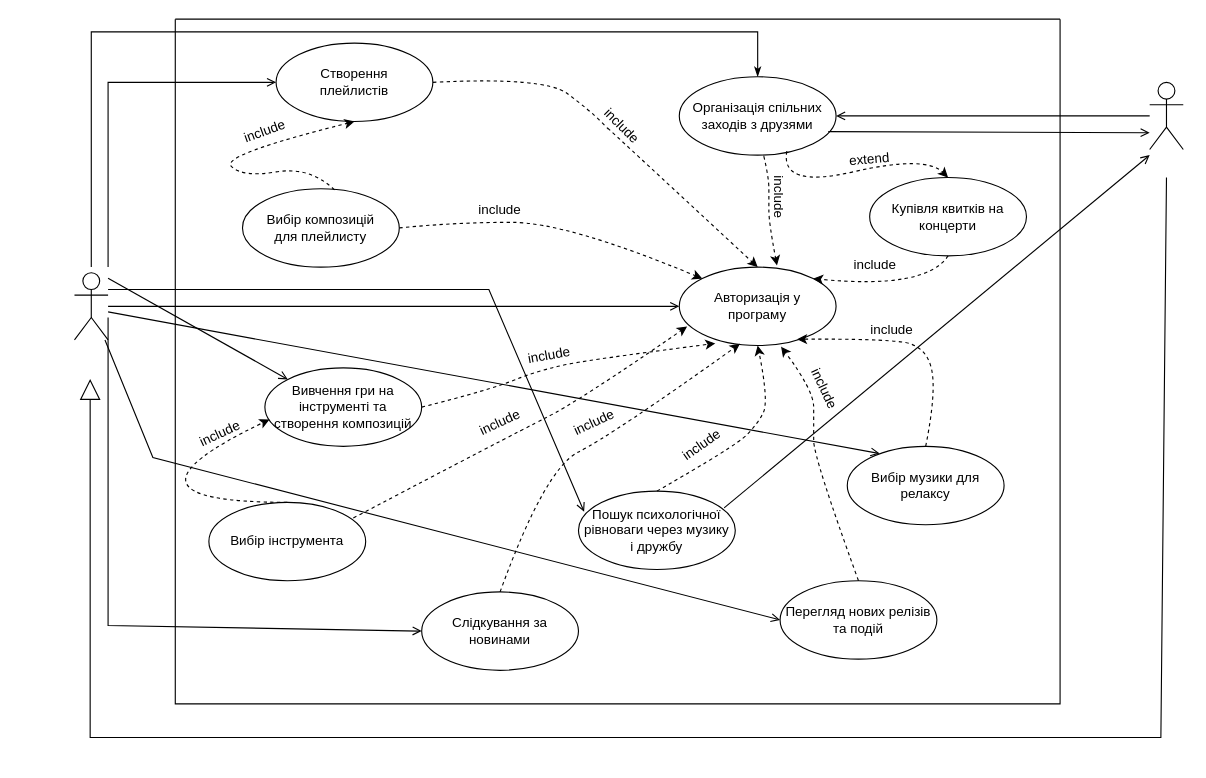
Some shapes in this 1206 by 778 pixel diagram are drawn without their labels. The centre of each missing label's shape, as x and y in pixels:
Друзі: the point at 1166,115
Музикоман-користувач: the point at 90,306
